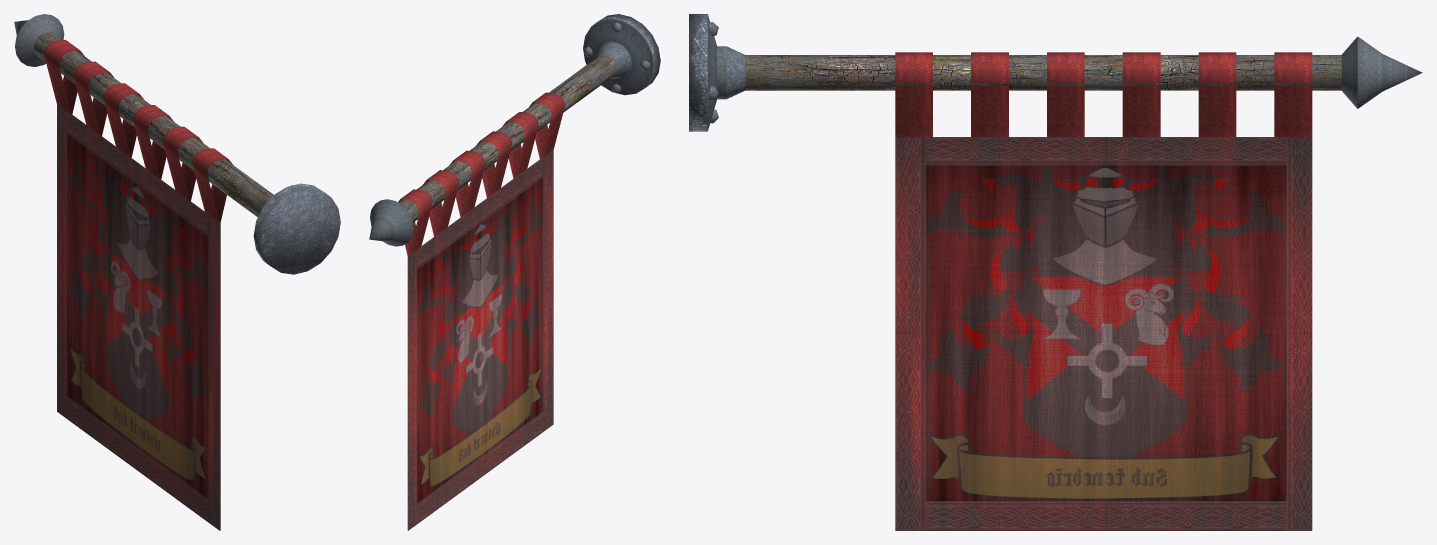
Rendered from Banner_1.FBX.
The picture shows the model from 3 angles, left to right: view 1: azimuth 30°, elevation 25°; view 2: azimuth 150°, elevation 25°; view 3: azimuth 270°, elevation 25°; orthographic projection. The views are drawn at different scales.
Parts seen in each view (by area): view 1: Object10, Plane03; view 2: Object10, Plane03; view 3: Object10, Plane03.
Boxes of the visible parts, <box> form: Object10: <box>44,39,232,530</box>; Plane03: <box>14,14,340,274</box>; Object10: <box>398,92,564,530</box>; Plane03: <box>369,14,660,246</box>; Object10: <box>895,52,1312,530</box>; Plane03: <box>689,14,1422,131</box>.
Bounding box in the file's own units: 33.99 × 162 × 211.
Materials: 2 (2 with a texture image).
